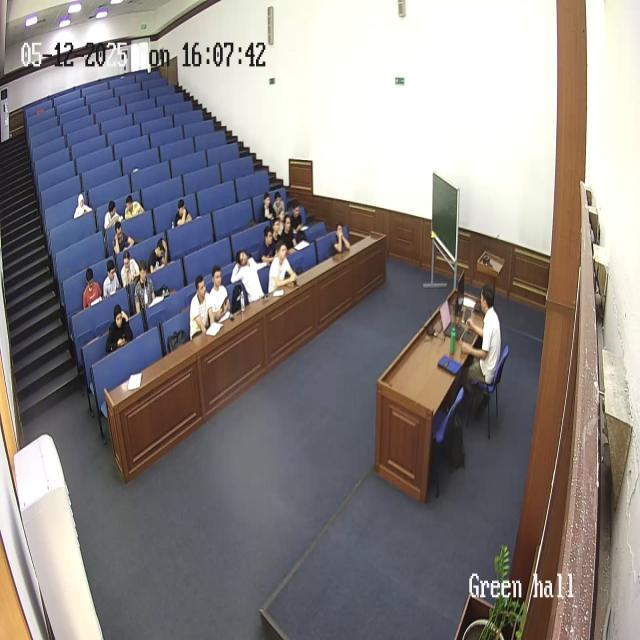person: (458, 284, 502, 408), (231, 249, 269, 305), (188, 276, 214, 338), (268, 241, 298, 293), (206, 265, 232, 323), (132, 258, 158, 314), (105, 302, 133, 353), (120, 245, 142, 290), (258, 223, 280, 264), (81, 268, 102, 310), (328, 221, 351, 257), (149, 235, 171, 272), (112, 219, 134, 256), (103, 258, 123, 298), (280, 212, 300, 252), (289, 203, 307, 241), (172, 198, 192, 228), (103, 200, 122, 229), (124, 193, 144, 220), (260, 191, 276, 224), (272, 190, 288, 223), (73, 191, 91, 219)
